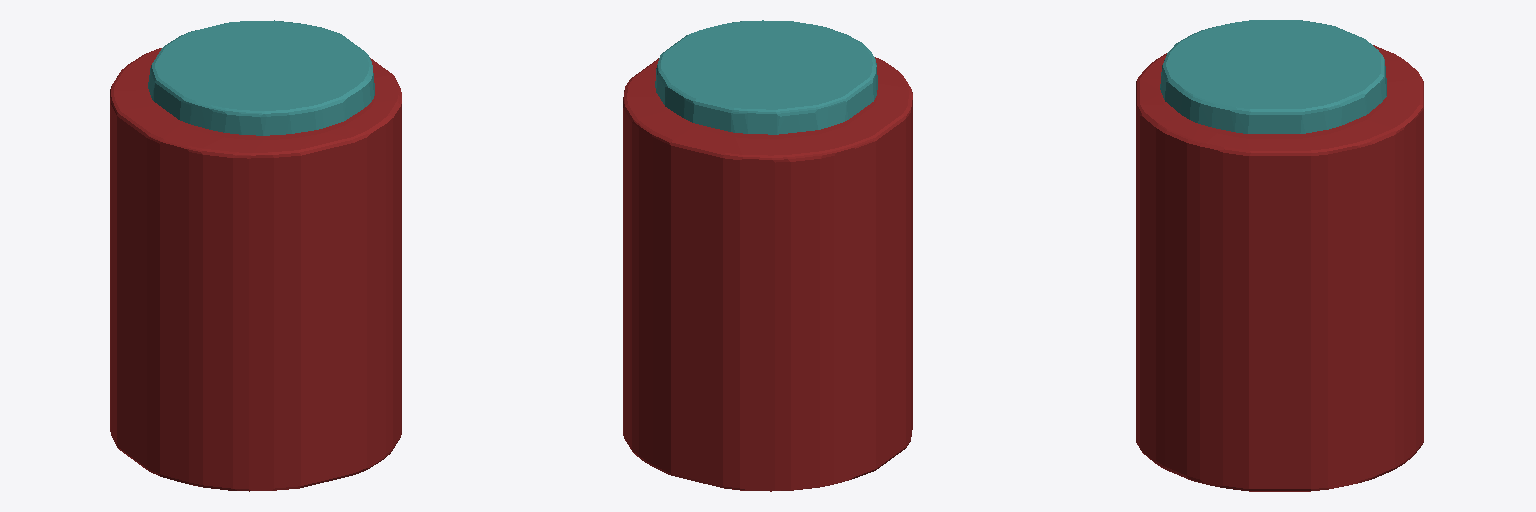
URDF robot description (root):
<robot name="root">
  <link name="bottle_body">
    <inertial>
      <origin xyz="0 0 0" rpy="0 0 0"/>
    </inertial>
    <mass value="1.00E-02"/>
    <visual>
      <origin xyz="0 0 0" rpy="0 0 0"/>
      <geometry>
        <mesh filename="core-bottle-542223f09a872e973858be97087c26ec-coacd_convex_piece_1.obj" scale="1.0000E-01 1.0000E-01 1.0000E-01"/>
      </geometry>
      <material name="">
        <color rgba="6.00E-01 2.00E-01 2.00E-01 1"/>
      </material>
    </visual>
    <collision>
      <origin xyz="0 0 0" rpy="0 0 0"/>
      <geometry>
        <mesh filename="core-bottle-542223f09a872e973858be97087c26ec-coacd_convex_piece_1.obj" scale="1.0000E-01 1.0000E-01 1.0000E-01"/>
      </geometry>
    </collision>
  </link>
  <link name="bottle_cap">
    <origin xyz="0 0 0.002" rpy="0 0 0"/>
    <mass value="1.00E-02"/>
    <visual>
      <origin xyz="0 0 0.002" rpy="0 0 0"/>
      <geometry>
        <mesh filename="core-bottle-542223f09a872e973858be97087c26ec-coacd_convex_piece_0.obj" scale="1.0000E-01 1.0000E-01 1.0000E-01"/>
      </geometry>
      <material name="">
        <color rgba="3.00E-01 6.00E-01 6.00E-01 1"/>
      </material>
    </visual>
    <collision>
      <origin xyz="0 0 0.002" rpy="0 0 0"/>
      <geometry>
        <mesh filename="core-bottle-542223f09a872e973858be97087c26ec-coacd_convex_piece_0.obj" scale="1.0000E-01 1.0000E-01 1.0000E-01"/>
      </geometry>
    </collision>
  </link>
  <joint name="bottle_cap_joint" type="revolute">
    <origin xyz="0 0 0" rpy="0 0 0"/>
    <parent link="bottle_body"/>
    <child link="bottle_cap"/>
    <axis xyz="0 0 1"/>
    <limit lower="0.00" upper="6.28"/>
    <dynamics damping="0.05"/>
  </joint>
</robot>

--- Render facts (derived) ---
3 views of the same robot in one strip: view 1: azimuth 30°, elevation 25°; view 2: azimuth 150°, elevation 25°; view 3: azimuth 270°, elevation 25° (orthographic).
Model root with 2 links and 1 joints (1 revolute), rooted at bottle_body, posed all joints at 0.
Visible links, largest first — view 1: bottle_body, bottle_cap; view 2: bottle_body, bottle_cap; view 3: bottle_body, bottle_cap.
Boxes of the visible links, left/top/right/bottom form: bottle_body: left=110, top=48, right=401, bottom=491; bottle_cap: left=148, top=20, right=374, bottom=135; bottle_body: left=623, top=57, right=912, bottom=491; bottle_cap: left=655, top=20, right=877, bottom=134; bottle_body: left=1136, top=45, right=1423, bottom=491; bottle_cap: left=1160, top=20, right=1386, bottom=133.
Bounding box of the posed robot: 0.1139 × 0.1139 × 0.1608 m (x, y, z).
Meshes: 2 distinct files referenced, 2 mesh visuals loaded (2 OBJ).